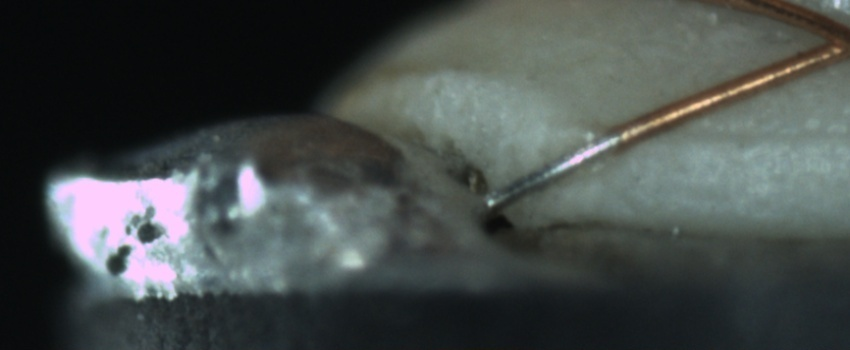CL: (796, 4, 850, 69)
DL: (640, 105, 849, 169)
TS: (486, 134, 622, 210)
